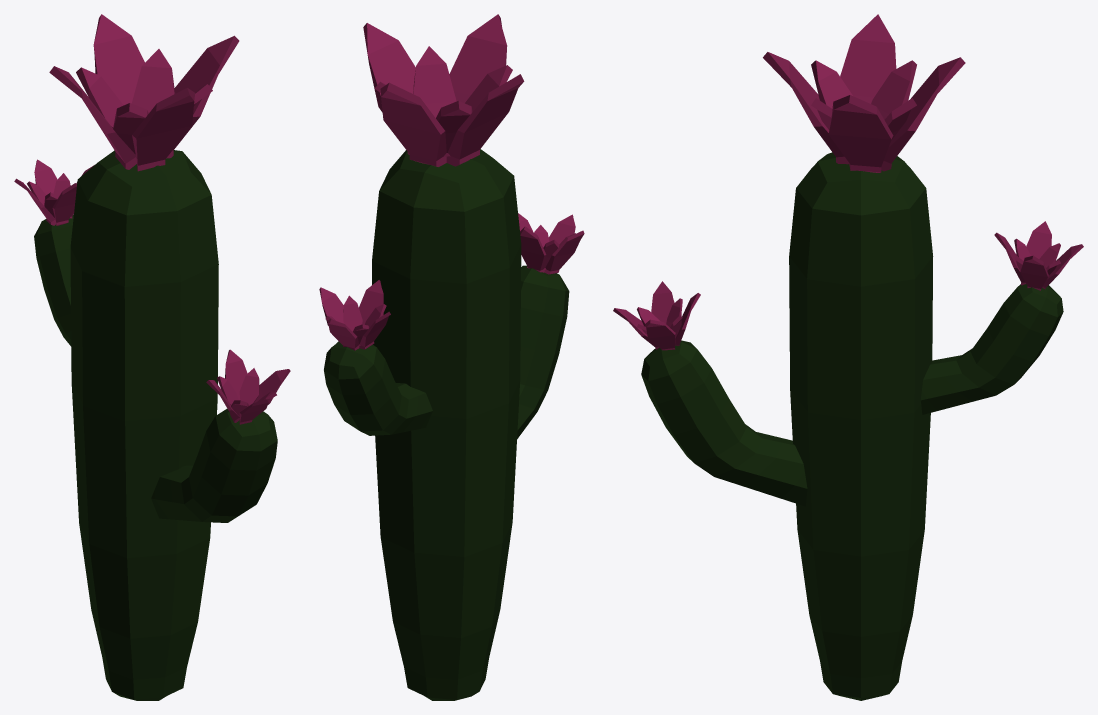
File: cactusFleur2.glb
3 views of the same model, side by side, from view 1: azimuth 30°, elevation 25°; view 2: azimuth 150°, elevation 25°; view 3: azimuth 270°, elevation 25° (orthographic).
Parts seen in each view (by area): view 1: CactusFlowers_3_Cube.002, mesh_mm1; view 2: CactusFlowers_3_Cube.002, mesh_mm1; view 3: CactusFlowers_3_Cube.002, mesh_mm1.
Part boxes in pixels (<box>): CactusFlowers_3_Cube.002: <box>34,150,277,700</box>; mesh_mm1: <box>14,14,290,424</box>; CactusFlowers_3_Cube.002: <box>324,149,569,700</box>; mesh_mm1: <box>319,14,584,350</box>; CactusFlowers_3_Cube.002: <box>641,152,1063,700</box>; mesh_mm1: <box>613,14,1083,350</box>.
Bounding box in the file's own units: 0.4774 × 1.67 × 1.12.
